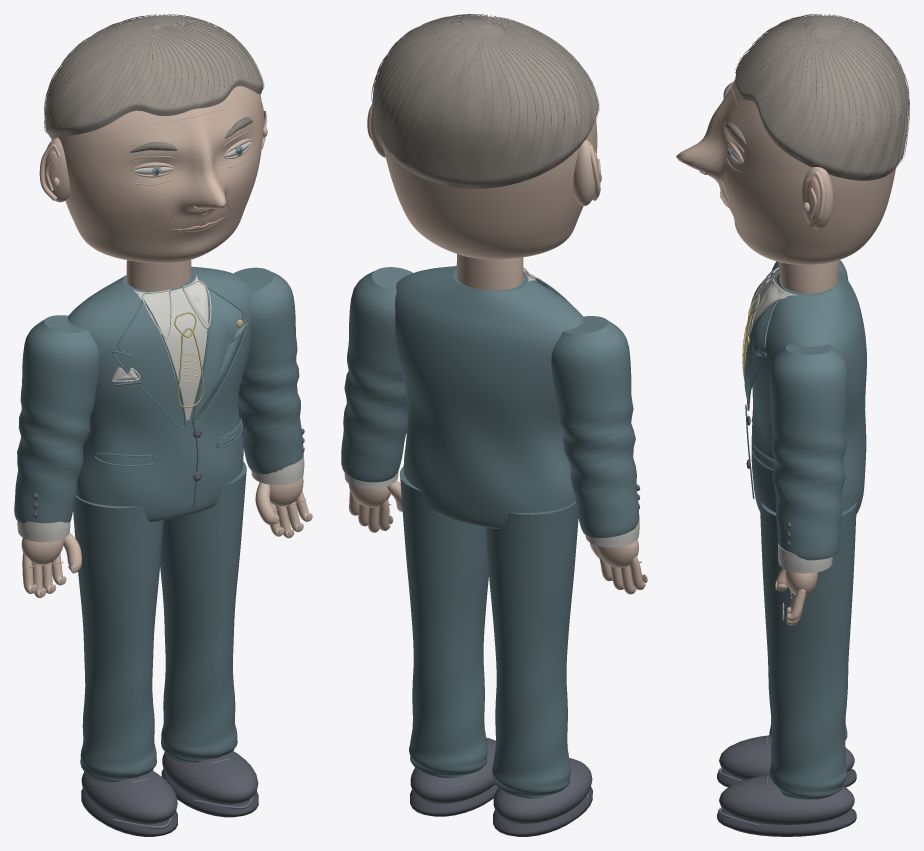
Rendered from paddy_ashdown_1990_v2.glb.
3 views of the same model, side by side, from view 1: azimuth 30°, elevation 25°; view 2: azimuth 150°, elevation 25°; view 3: azimuth 270°, elevation 25° (orthographic). The views are drawn at different scales.
Parts seen in each view (by area): view 1: Paddy Ashdown; view 2: Paddy Ashdown; view 3: Paddy Ashdown.
Boxes of the visible parts, left/top/right/bottom form: Paddy Ashdown: left=14, top=14, right=312, bottom=836; Paddy Ashdown: left=341, top=14, right=647, bottom=836; Paddy Ashdown: left=676, top=14, right=909, bottom=836.
Bounding box in the file's own units: 1.8 × 4.67 × 1.27.
